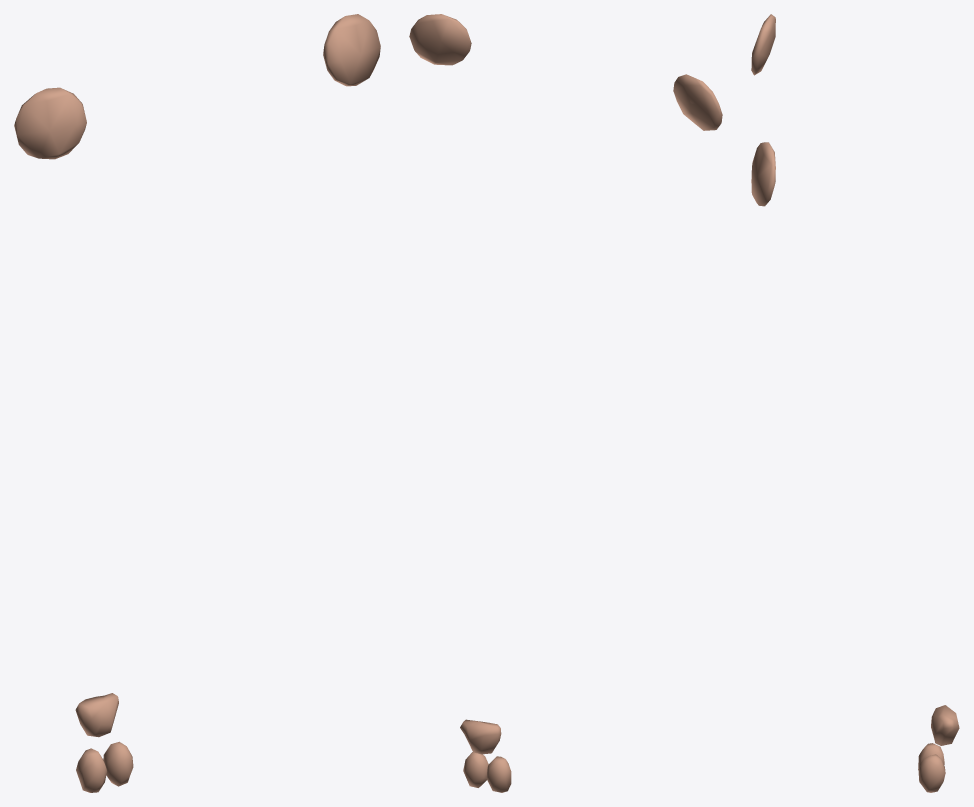
Rendered from pediatric_child_5y_male.reproductive.LOD3.glb.
3 renders of one model, left to right at view 1: azimuth 30°, elevation 25°; view 2: azimuth 150°, elevation 25°; view 3: azimuth 270°, elevation 25°, orthographic. The views are drawn at different scales.
Parts seen in each view (by area): view 1: PEDIATRIC.CHILD_5Y.MALE.REPRODUCTIVE.BREAST_ADIPOSE_TISSUE.R, PEDIATRIC.CHILD_5Y.MALE.REPRODUCTIVE.BREAST_ADIPOSE_TISSUE.L, PEDIATRIC.CHILD_5Y.MALE.REPRODUCTIVE.PROSTATE, PEDIATRIC.CHILD_5Y.MALE.REPRODUCTIVE.TESTIS.R, PEDIATRIC.CHILD_5Y.MALE.REPRODUCTIVE.TESTIS.L; view 2: PEDIATRIC.CHILD_5Y.MALE.REPRODUCTIVE.BREAST_ADIPOSE_TISSUE.L, PEDIATRIC.CHILD_5Y.MALE.REPRODUCTIVE.BREAST_ADIPOSE_TISSUE.R, PEDIATRIC.CHILD_5Y.MALE.REPRODUCTIVE.PROSTATE, PEDIATRIC.CHILD_5Y.MALE.REPRODUCTIVE.TESTIS.R, PEDIATRIC.CHILD_5Y.MALE.REPRODUCTIVE.TESTIS.L; view 3: PEDIATRIC.CHILD_5Y.MALE.REPRODUCTIVE.BREAST_ADIPOSE_TISSUE.L, PEDIATRIC.CHILD_5Y.MALE.REPRODUCTIVE.PROSTATE, PEDIATRIC.CHILD_5Y.MALE.REPRODUCTIVE.BREAST_ADIPOSE_TISSUE.R, PEDIATRIC.CHILD_5Y.MALE.REPRODUCTIVE.TESTIS.L.
Boxes of the visible parts, x1=… form: PEDIATRIC.CHILD_5Y.MALE.REPRODUCTIVE.BREAST_ADIPOSE_TISSUE.R: x1=14, y1=87, x2=86, y2=159; PEDIATRIC.CHILD_5Y.MALE.REPRODUCTIVE.BREAST_ADIPOSE_TISSUE.L: x1=323, y1=14, x2=380, y2=86; PEDIATRIC.CHILD_5Y.MALE.REPRODUCTIVE.PROSTATE: x1=75, y1=693, x2=118, y2=737; PEDIATRIC.CHILD_5Y.MALE.REPRODUCTIVE.TESTIS.R: x1=76, y1=748, x2=106, y2=792; PEDIATRIC.CHILD_5Y.MALE.REPRODUCTIVE.TESTIS.L: x1=103, y1=741, x2=133, y2=786; PEDIATRIC.CHILD_5Y.MALE.REPRODUCTIVE.BREAST_ADIPOSE_TISSUE.L: x1=409, y1=14, x2=471, y2=65; PEDIATRIC.CHILD_5Y.MALE.REPRODUCTIVE.BREAST_ADIPOSE_TISSUE.R: x1=673, y1=74, x2=722, y2=130; PEDIATRIC.CHILD_5Y.MALE.REPRODUCTIVE.PROSTATE: x1=460, y1=719, x2=501, y2=754; PEDIATRIC.CHILD_5Y.MALE.REPRODUCTIVE.TESTIS.R: x1=486, y1=756, x2=511, y2=792; PEDIATRIC.CHILD_5Y.MALE.REPRODUCTIVE.TESTIS.L: x1=463, y1=752, x2=488, y2=787; PEDIATRIC.CHILD_5Y.MALE.REPRODUCTIVE.BREAST_ADIPOSE_TISSUE.L: x1=751, y1=142, x2=775, y2=206; PEDIATRIC.CHILD_5Y.MALE.REPRODUCTIVE.PROSTATE: x1=931, y1=705, x2=959, y2=745; PEDIATRIC.CHILD_5Y.MALE.REPRODUCTIVE.BREAST_ADIPOSE_TISSUE.R: x1=751, y1=14, x2=775, y2=75; PEDIATRIC.CHILD_5Y.MALE.REPRODUCTIVE.TESTIS.L: x1=918, y1=754, x2=945, y2=792.
Size of the model in its own units: 0.1443 by 0.3054 by 0.0816.
